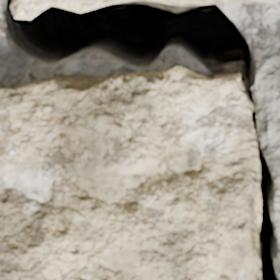brick: (0, 66, 260, 279), (12, 0, 125, 18), (156, 0, 277, 4)
crack: (2, 0, 279, 279)
